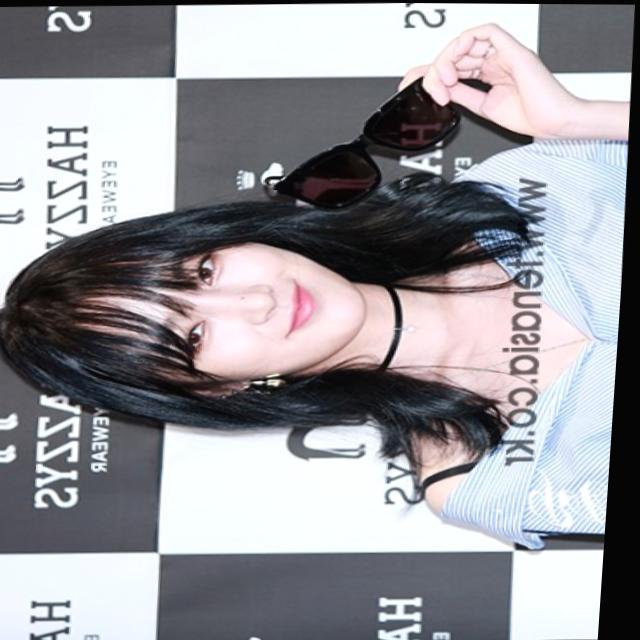face: (100, 235, 378, 385)
